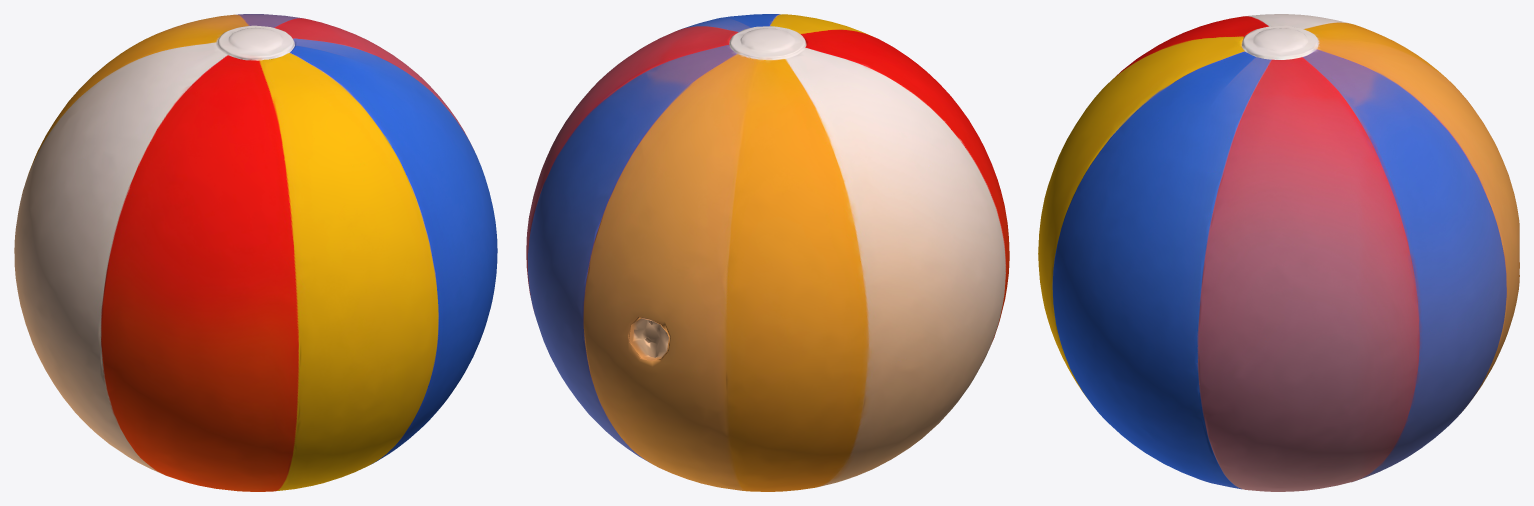
The model's file is Bola.fbx.
3 views of the same model, side by side, from view 1: azimuth 30°, elevation 25°; view 2: azimuth 150°, elevation 25°; view 3: azimuth 270°, elevation 25° (orthographic).
Parts seen in each view (by area): view 1: tripo_node_56156e32-23ca-4fbc-84d0-936141a7ebcf; view 2: tripo_node_56156e32-23ca-4fbc-84d0-936141a7ebcf; view 3: tripo_node_56156e32-23ca-4fbc-84d0-936141a7ebcf.
Boxes of the visible parts, box(x1,y1,x2,y2) form: tripo_node_56156e32-23ca-4fbc-84d0-936141a7ebcf: box(14, 14, 497, 491); tripo_node_56156e32-23ca-4fbc-84d0-936141a7ebcf: box(526, 14, 1009, 491); tripo_node_56156e32-23ca-4fbc-84d0-936141a7ebcf: box(1038, 14, 1519, 491).
Bounding box in the file's own units: 0.9815 × 0.9711 × 0.9786.
